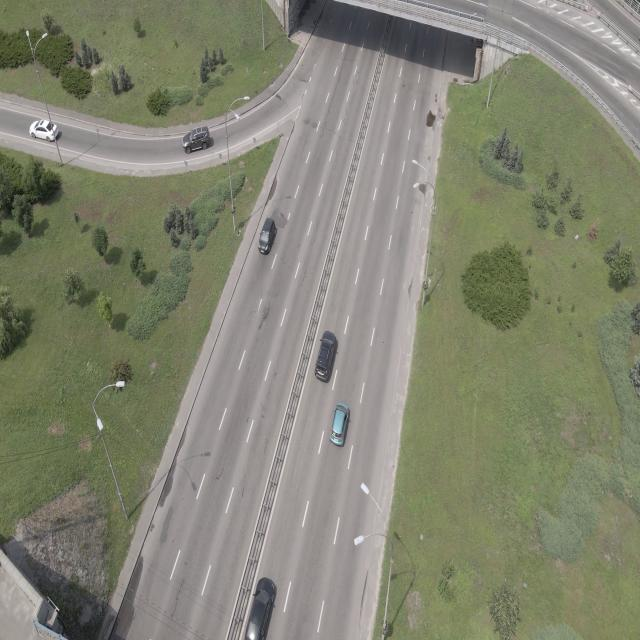vehicle: (244, 576, 275, 640), (314, 330, 338, 382), (330, 401, 350, 447), (183, 126, 209, 152), (258, 217, 276, 254), (30, 120, 58, 142)
